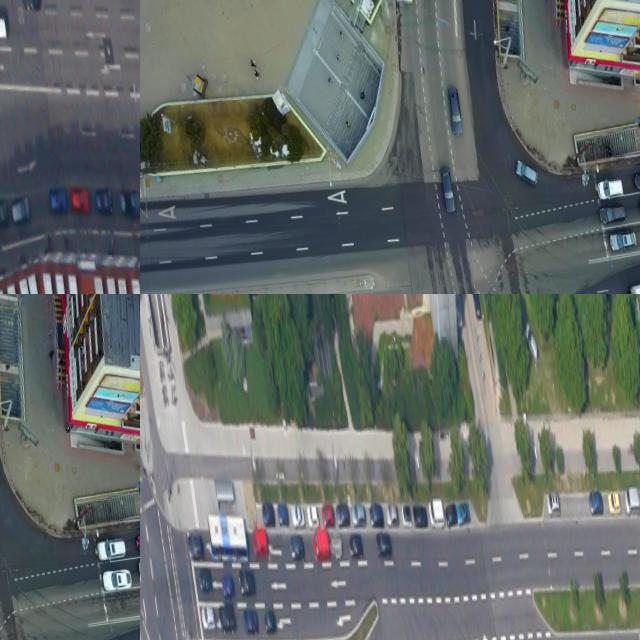UAI: (446, 86, 465, 137), (514, 157, 542, 191), (439, 165, 458, 214), (96, 536, 128, 564), (523, 319, 541, 368), (101, 567, 134, 593), (596, 175, 625, 203), (608, 228, 638, 254), (598, 201, 627, 226), (118, 187, 140, 219), (312, 528, 331, 562), (10, 196, 32, 225), (49, 186, 69, 217), (94, 185, 114, 216), (251, 525, 269, 559), (218, 602, 237, 634), (238, 567, 257, 599), (70, 187, 90, 216), (187, 530, 205, 562), (427, 496, 445, 528), (623, 484, 640, 516), (374, 529, 392, 559), (197, 565, 214, 596), (289, 532, 306, 562), (368, 501, 385, 530), (243, 609, 260, 635), (200, 604, 216, 631), (348, 532, 364, 559), (262, 607, 277, 635), (587, 489, 603, 515), (221, 572, 235, 600), (412, 504, 428, 528), (607, 489, 621, 516), (262, 501, 276, 528), (546, 490, 561, 515), (335, 502, 350, 527), (291, 504, 306, 529), (456, 500, 471, 524), (351, 503, 366, 527), (306, 502, 319, 529), (276, 501, 289, 528), (444, 502, 458, 527), (385, 501, 399, 526), (321, 503, 335, 528), (330, 535, 343, 560), (469, 294, 481, 320), (400, 502, 412, 527), (0, 199, 9, 230), (20, 0, 42, 12), (0, 11, 8, 39), (633, 167, 640, 190), (134, 529, 140, 553)
car: (206, 507, 250, 567)
